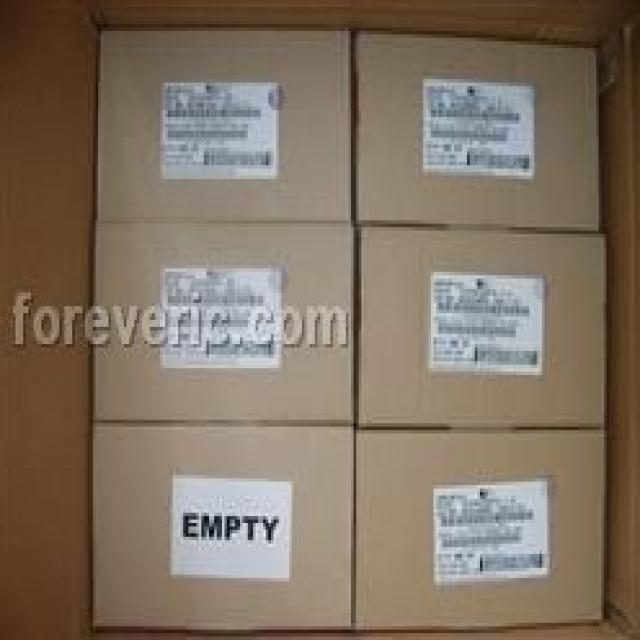box: (92, 424, 354, 630), (93, 222, 355, 423), (354, 429, 606, 632), (358, 225, 605, 427), (97, 28, 352, 222), (357, 31, 600, 232)
